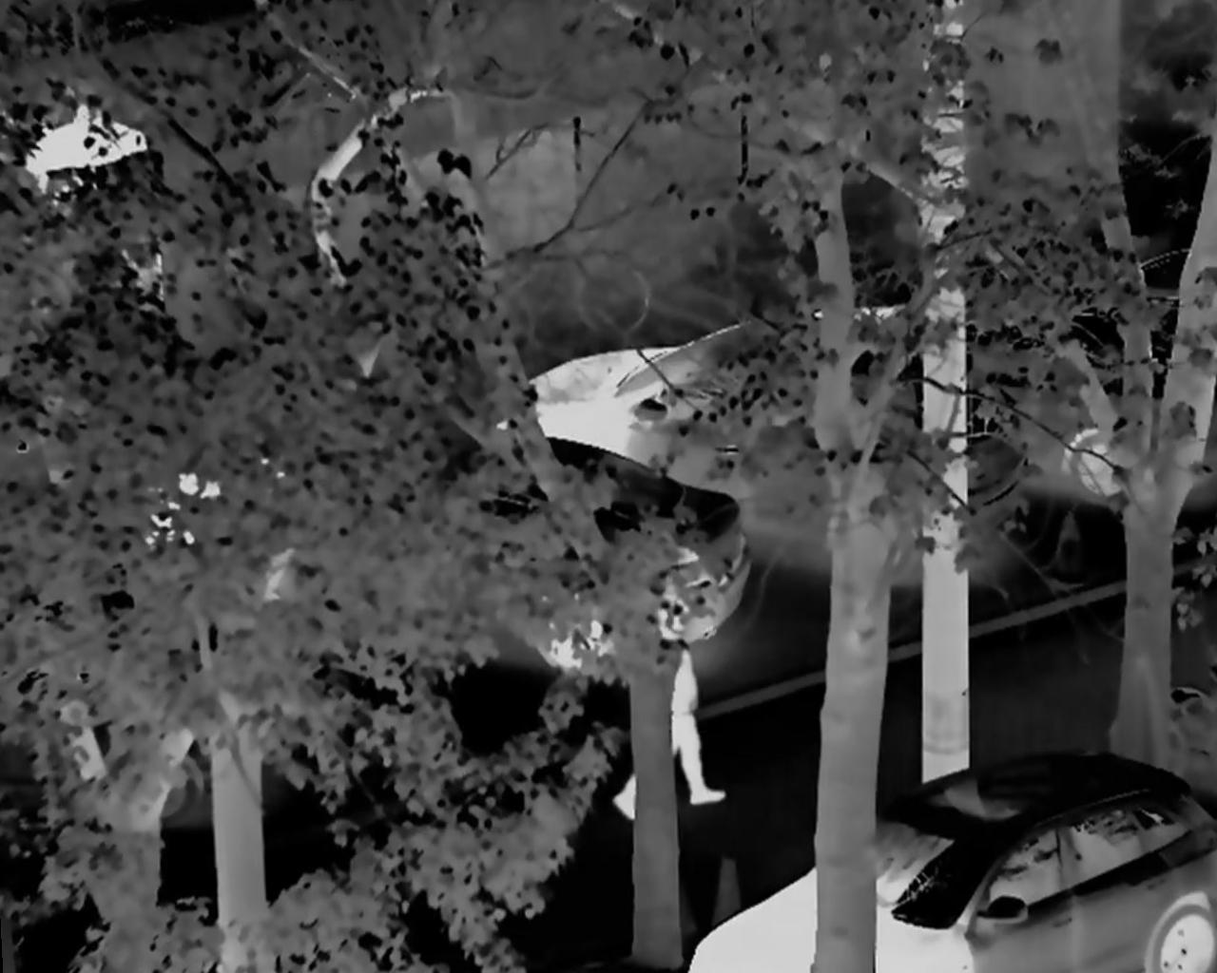person: (614, 602, 727, 818)
